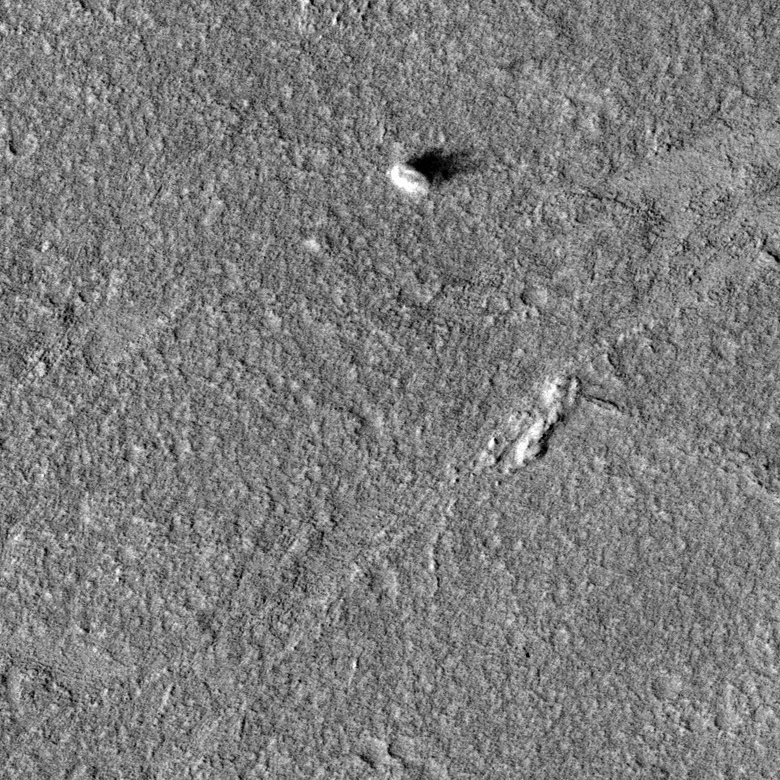dust_devil: (387, 144, 490, 195)
